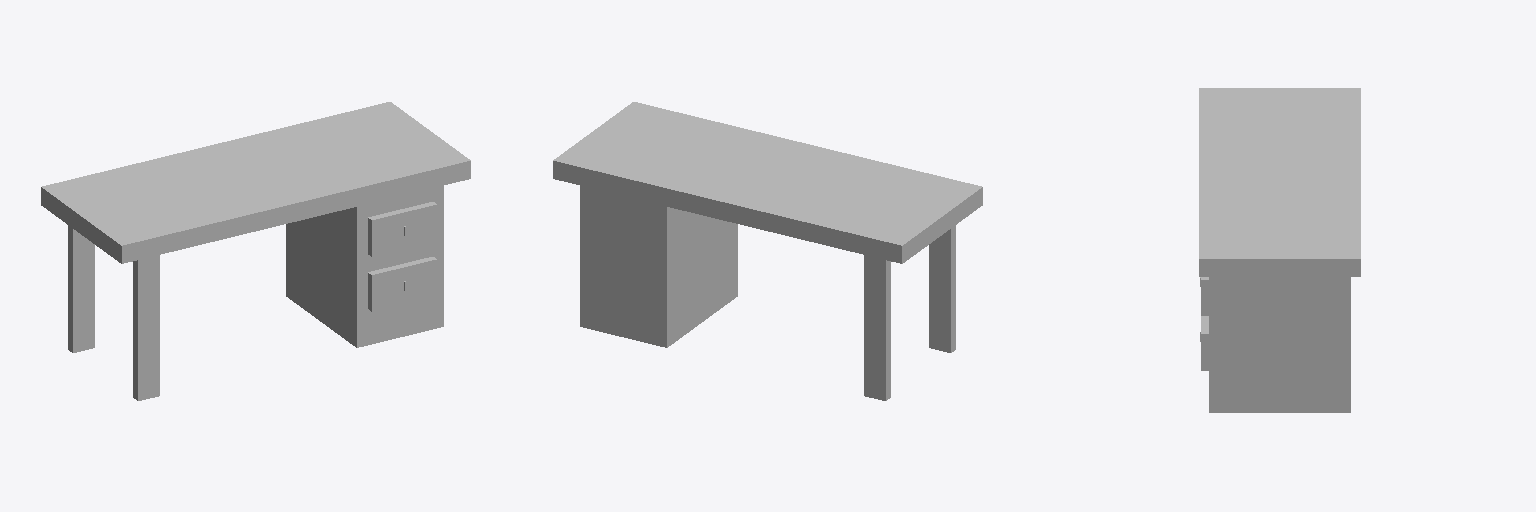
Rendered from Desk.obj.
The picture shows the model from 3 angles: view 1: azimuth 30°, elevation 25°; view 2: azimuth 150°, elevation 25°; view 3: azimuth 270°, elevation 25°; orthographic projection.
Parts seen in each view (by area): view 1: Plane; view 2: Plane; view 3: Plane.
Part boxes in pixels (x1,y1,x2,y2): Plane: (41,102,470,400); Plane: (553,102,982,400); Plane: (1199,88,1360,412).
Size of the model in its own units: 5 by 2.25 by 2.